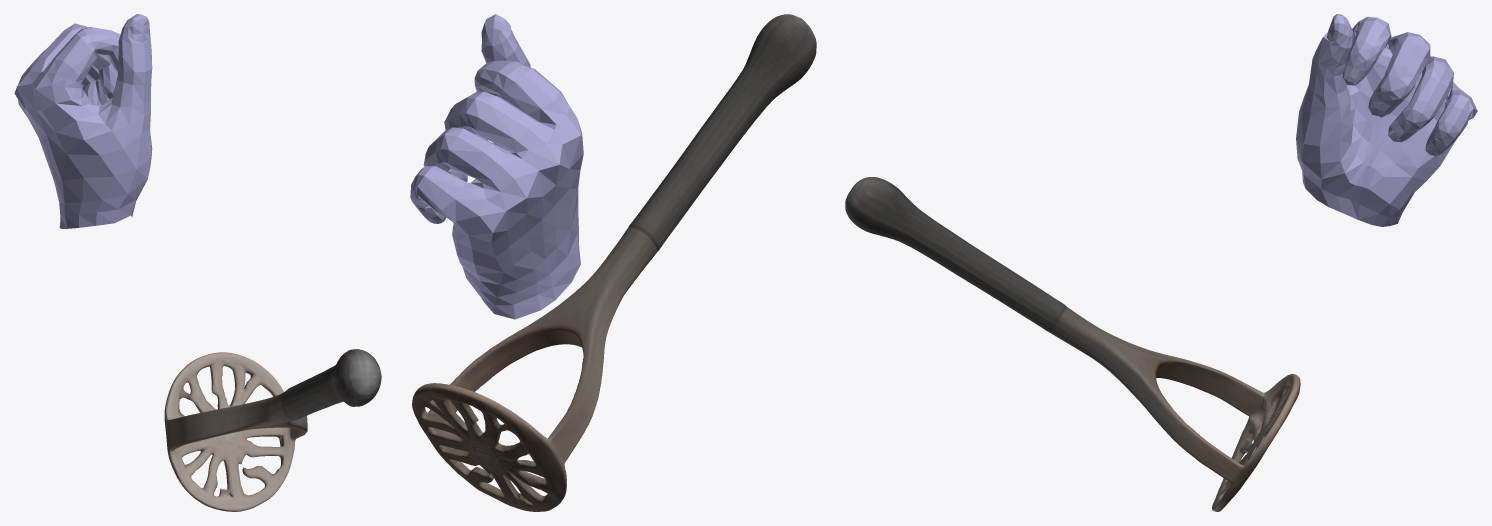
The model's file is frame_0072_source_000072_hand_object.glb.
The picture shows the model from 3 angles, left to right: view 1: azimuth 30°, elevation 25°; view 2: azimuth 150°, elevation 25°; view 3: azimuth 270°, elevation 25°; orthographic projection. The views are drawn at different scales.
Visible parts, largest first — view 1: world; view 2: world; view 3: world.
Part boxes in pixels (x1=…): world: x1=14, y1=14, x2=381, y2=511; world: x1=410, y1=14, x2=816, y2=511; world: x1=845, y1=14, x2=1477, y2=511.
Bounding box in the file's own units: 0.1189 × 0.2696 × 0.3293.
